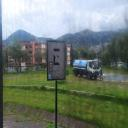NoEstacionar: (46, 40, 67, 83)
